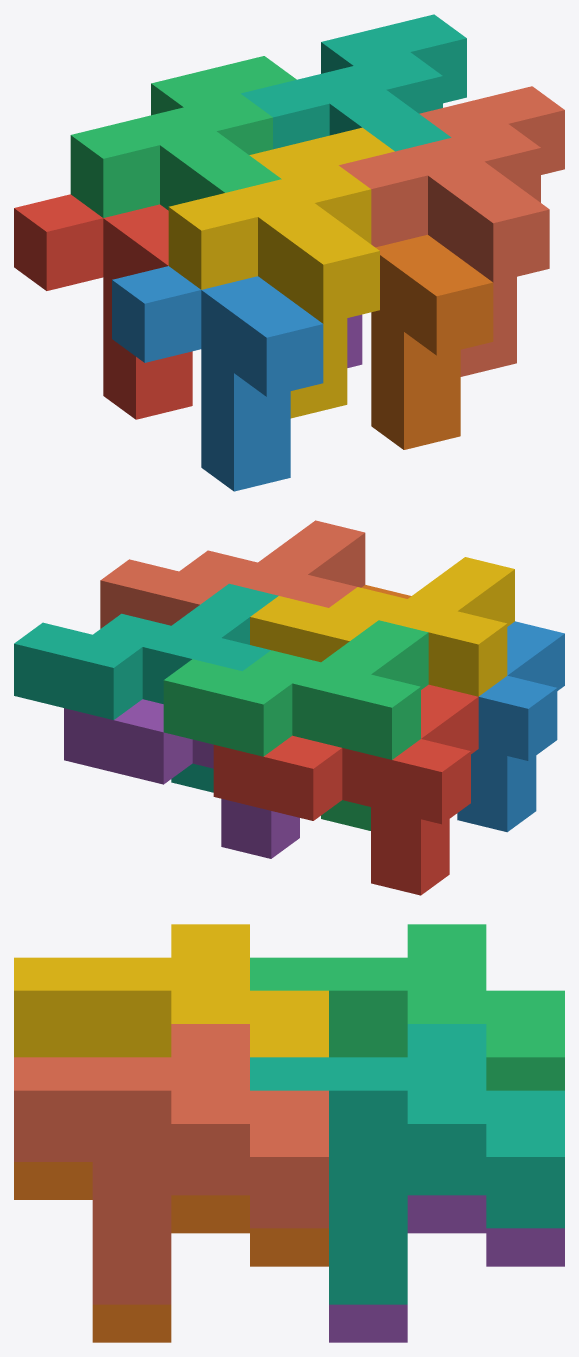
The model's file is tiling.obj.
The picture shows the model from 3 angles, top to bottom: view 1: azimuth 30°, elevation 25°; view 2: azimuth 150°, elevation 25°; view 3: azimuth 270°, elevation 25°; orthographic projection. The views are drawn at different scales.
Parts seen in each view (by area): view 1: copy_1_domain_4, copy_1_domain_8, copy_1_domain_2, copy_1_domain_3, copy_1_domain_6, copy_1_domain_7, copy_1_domain_1, copy_1_domain_5; view 2: copy_1_domain_3, copy_1_domain_1, copy_1_domain_7, copy_1_domain_4, copy_1_domain_8, copy_1_domain_2, copy_1_domain_5; view 3: copy_1_domain_8, copy_1_domain_7, copy_1_domain_4, copy_1_domain_3, copy_1_domain_6, copy_1_domain_5.
Boxes of the visible parts, <box> form: copy_1_domain_4: <box>168,127,394,418</box>; copy_1_domain_8: <box>339,86,564,376</box>; copy_1_domain_2: <box>112,266,323,491</box>; copy_1_domain_3: <box>70,56,296,217</box>; copy_1_domain_6: <box>371,234,493,449</box>; copy_1_domain_7: <box>241,14,466,151</box>; copy_1_domain_1: <box>14,194,192,419</box>; copy_1_domain_5: <box>347,314,362,367</box>; copy_1_domain_3: <box>163,620,428,830</box>; copy_1_domain_1: <box>213,684,478,895</box>; copy_1_domain_7: <box>14,583,278,792</box>; copy_1_domain_4: <box>250,557,514,696</box>; copy_1_domain_8: <box>100,520,365,628</box>; copy_1_domain_2: <box>457,621,564,832</box>; copy_1_domain_5: <box>64,699,299,858</box>; copy_1_domain_8: <box>14,1024,328,1304</box>; copy_1_domain_7: <box>250,1024,564,1304</box>; copy_1_domain_4: <box>14,924,328,1057</box>; copy_1_domain_3: <box>250,924,564,1090</box>; copy_1_domain_6: <box>14,1162,328,1342</box>; copy_1_domain_5: <box>329,1195,564,1342</box>.
Bounding box in the file's own units: 8 × 4 × 7.
